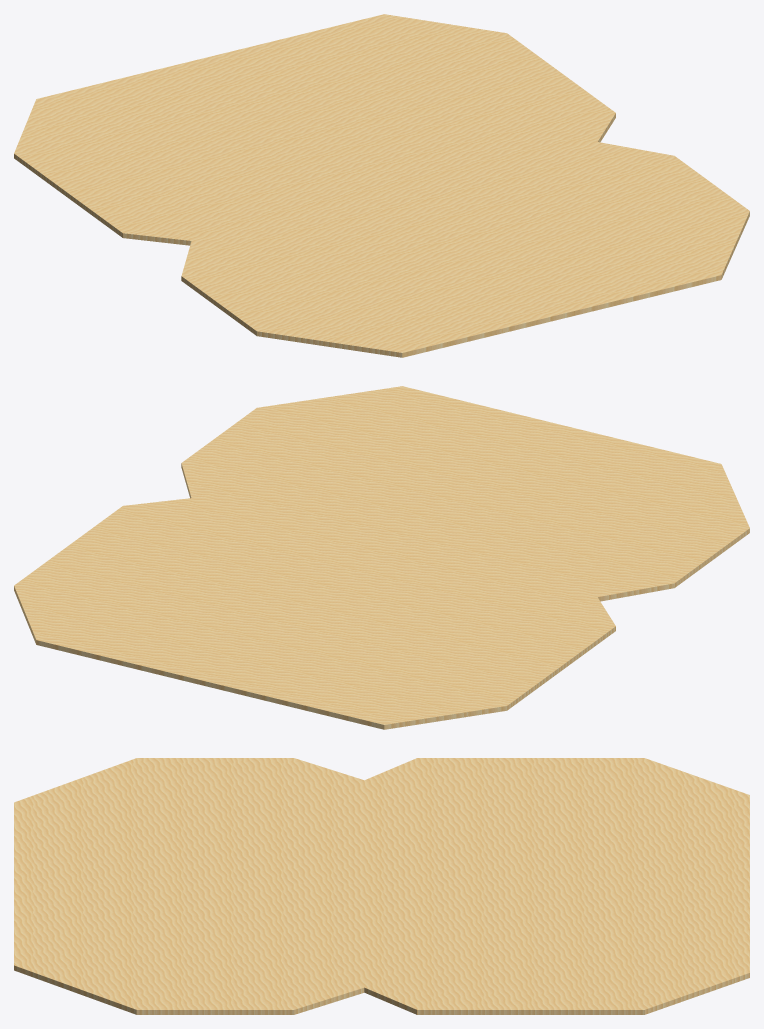
The model's file is seabed-10-C76Ky427.glb.
3 views of the same model, one above another, from view 1: azimuth 30°, elevation 25°; view 2: azimuth 150°, elevation 25°; view 3: azimuth 270°, elevation 25° (orthographic). The views are drawn at different scales.
Parts seen in each view (by area): view 1: SW_SandShelf; view 2: SW_SandShelf; view 3: SW_SandShelf.
Part boxes in pixels (x1,y1,x2,y2): SW_SandShelf: [14, 14, 749, 357]; SW_SandShelf: [14, 386, 749, 729]; SW_SandShelf: [14, 758, 749, 1014].
Size of what is drawn, in the model's own units: 34 by 0.32 by 42.
1 material, 1 textured.
